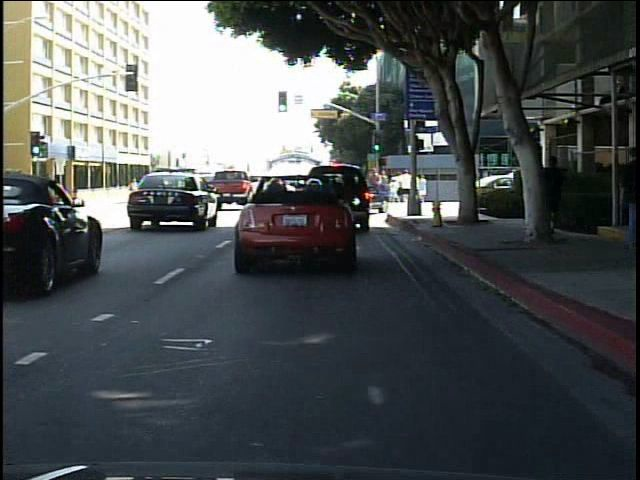person: (544, 146, 570, 237), (125, 176, 144, 203), (630, 141, 632, 260)
